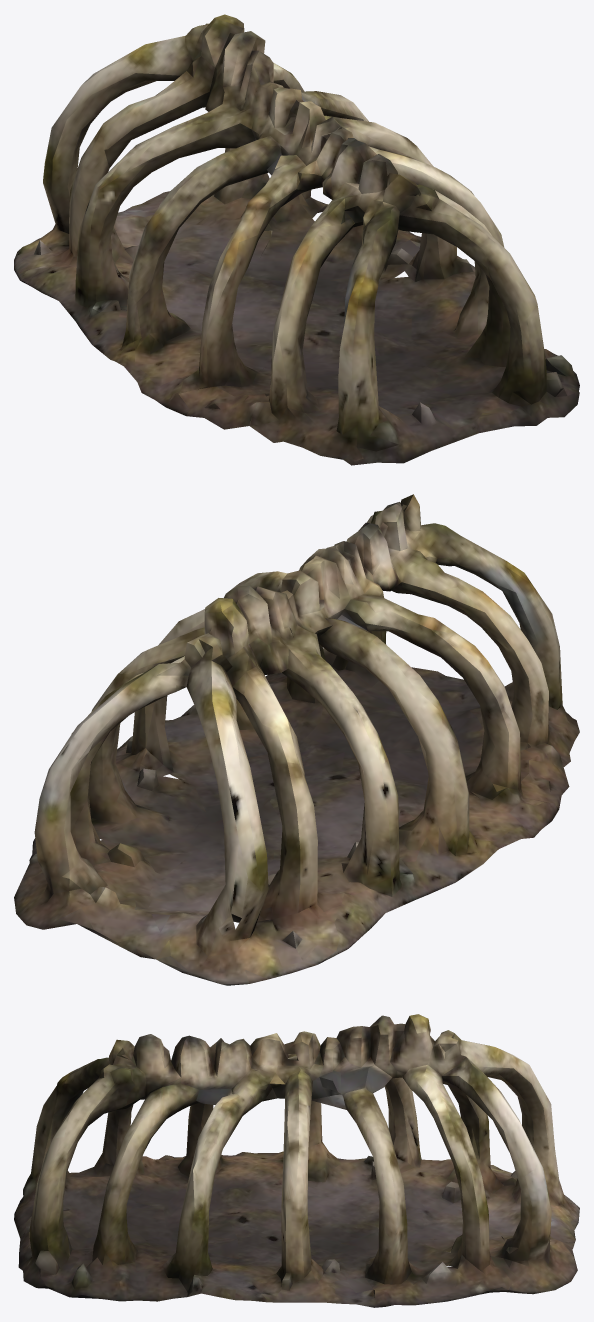
Rendered from prop-giant-ribs.glb.
3 views of the same model, one above another, from view 1: azimuth 30°, elevation 25°; view 2: azimuth 150°, elevation 25°; view 3: azimuth 270°, elevation 25° (orthographic). The views are drawn at different scales.
Parts seen in each view (by area): view 1: prop-giant-ribs; view 2: prop-giant-ribs; view 3: prop-giant-ribs.
Part boxes in pixels (<box>): prop-giant-ribs: <box>14,14,579,465</box>; prop-giant-ribs: <box>14,494,579,985</box>; prop-giant-ribs: <box>14,1014,579,1307</box>.
Size of the model in its own units: 8.4 by 5.86 by 12.98.
Materials: 1 (1 with a texture image).
